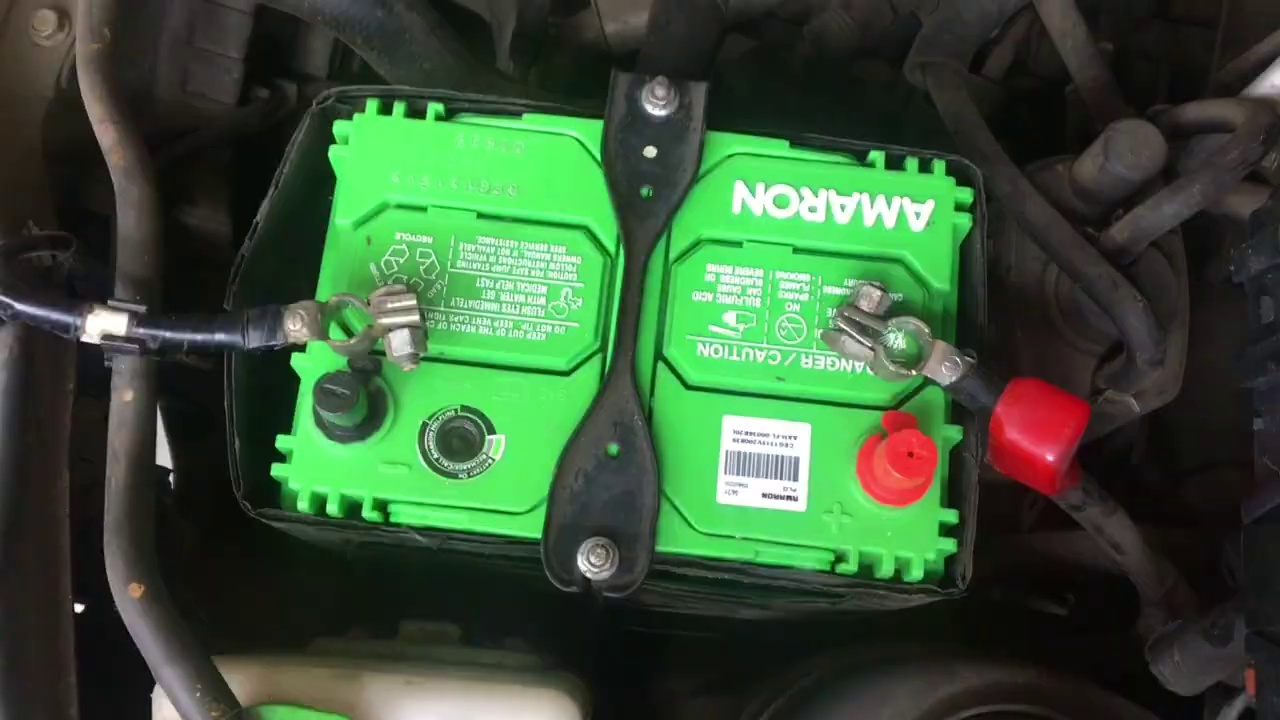battery: (298, 102, 972, 572)
pos_disconnected: (818, 252, 997, 531)
